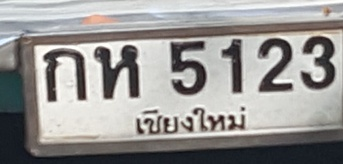txt01: (41, 46, 88, 103)
txt36: (92, 43, 141, 100)
